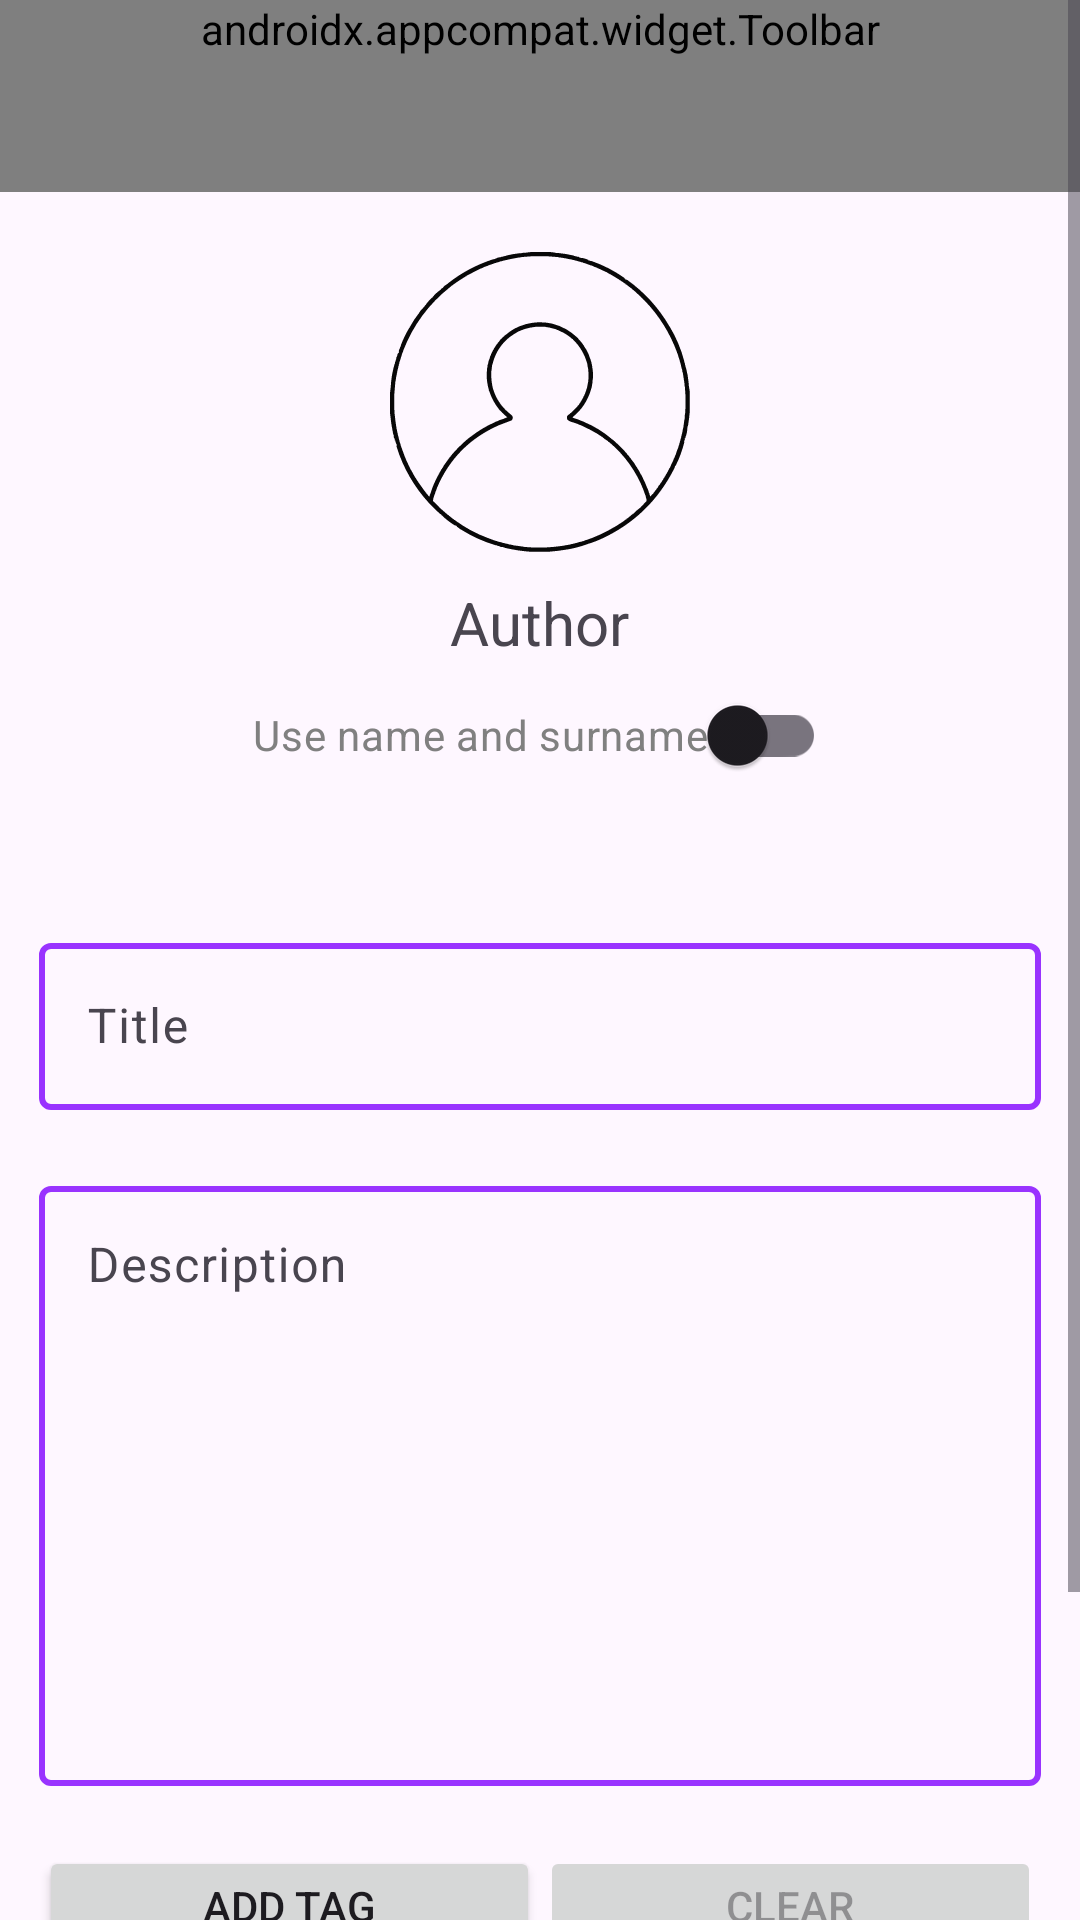

Screen size 1080w x 1920h. Icon name, then its center in pixels as (x=x, y=y):
Click on image to choose avatar: (x=540, y=402)
